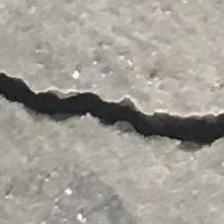Crack: (0, 14, 224, 168)
